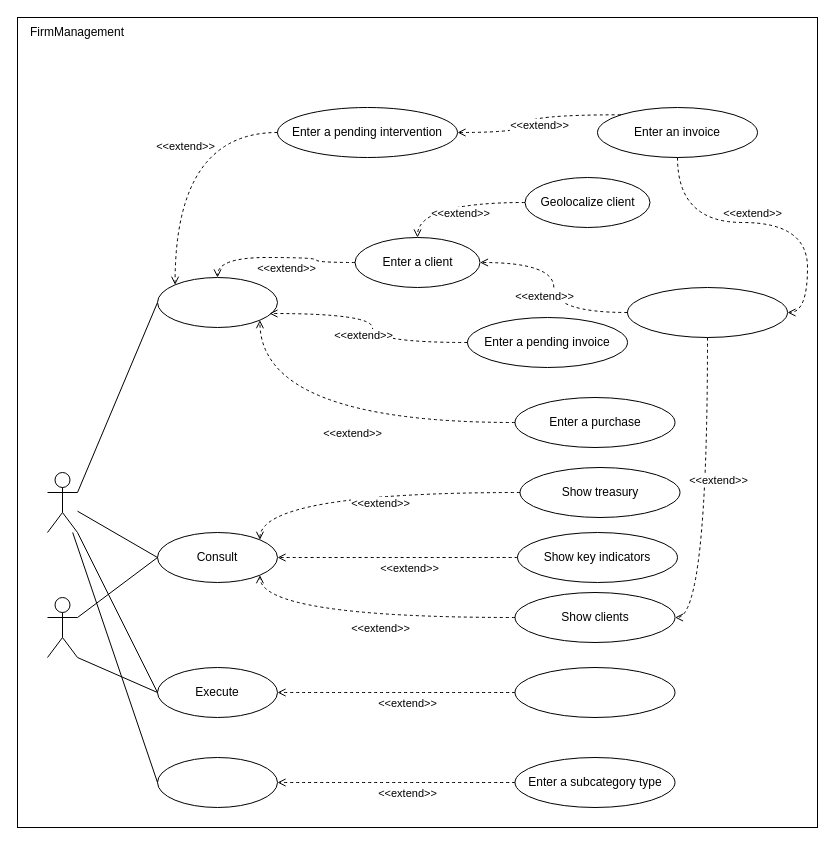
Some shapes in this 835 by 845 pixel diagram are drawn without their labels. The shapes that lost their labels are listed below. From the top down, each one's centre as x and y in pixels, then its label:
At pixel 217 302: "Enter".
At pixel 707 312: "Enter an intervention".
At pixel 62 502: "CEO".
At pixel 62 627: "Internship".
At pixel 594 692: "Generate tax certificates".
At pixel 217 782: "Configure".
